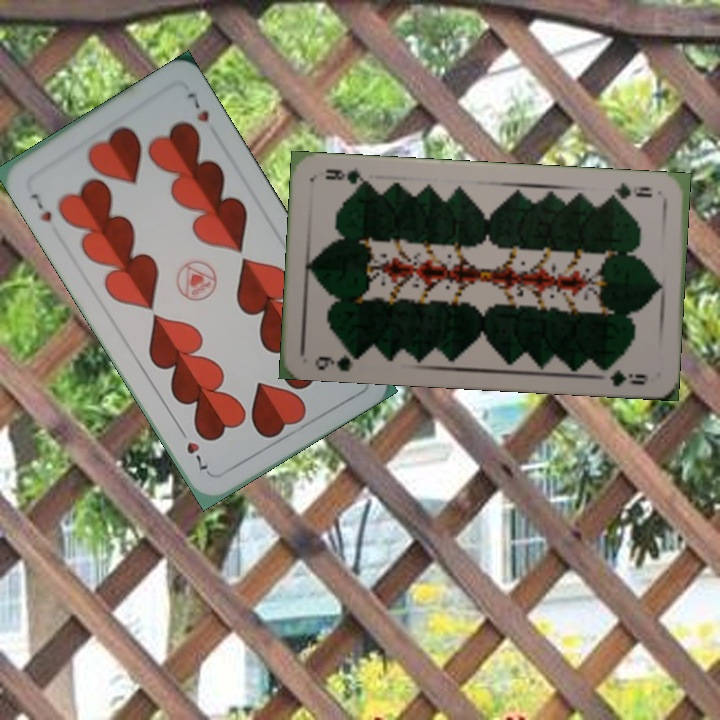G9: (310, 347, 364, 374), (604, 178, 655, 203)
H7: (26, 188, 54, 224)
